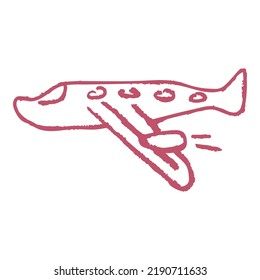airplane: (13, 67, 250, 193)
